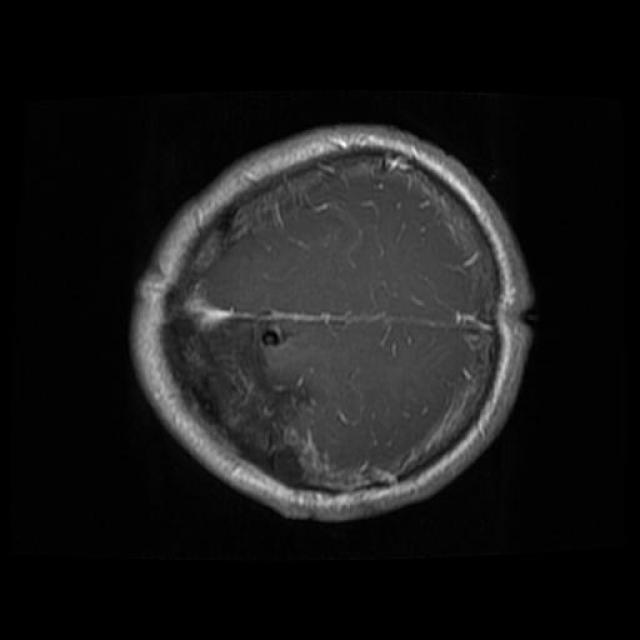Glioma: (166, 301, 343, 488)
